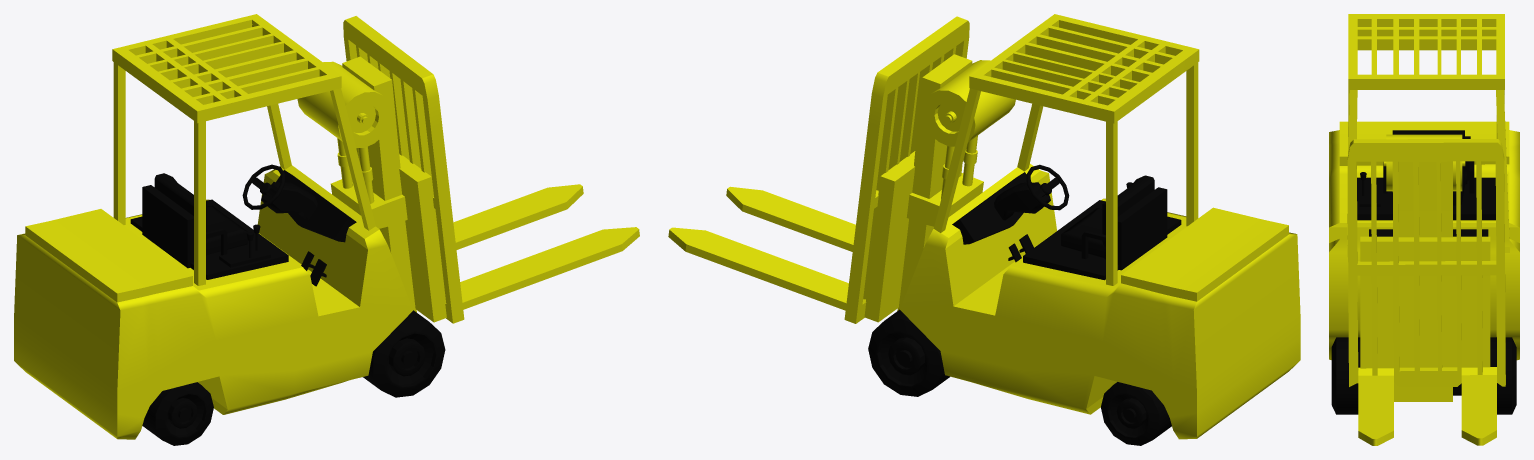
Rendered from Forklift_01_High.fbx.
3 renders of one model, left to right at view 1: azimuth 30°, elevation 25°; view 2: azimuth 150°, elevation 25°; view 3: azimuth 270°, elevation 25°, orthographic. The views are drawn at different scales.
Visible parts, largest first — view 1: Body, polySurface6, Roof, wheels, Chair, Stirring_Wheel, Controls; view 2: Body, polySurface6, Roof, wheels, Chair, Stirring_Wheel, Controls; view 3: polySurface6, Body, Roof, wheels, Controls, Chair, Stirring_Wheel.
Boxes of the visible parts, <box> form: Body: <box>14,165,413,439</box>; polySurface6: <box>297,16,639,323</box>; Roof: <box>112,14,375,285</box>; wheels: <box>142,310,445,445</box>; Chair: <box>142,173,248,268</box>; Stirring_Wheel: <box>242,164,356,242</box>; Controls: <box>130,199,288,279</box>; Body: <box>900,164,1300,439</box>; polySurface6: <box>668,16,1015,323</box>; Roof: <box>933,14,1199,285</box>; wheels: <box>868,309,1171,445</box>; Chair: <box>1061,175,1167,270</box>; Stirring_Wheel: <box>952,164,1069,244</box>; Controls: <box>1023,182,1181,280</box>; polySurface6: <box>1347,134,1505,445</box>; Body: <box>1329,121,1519,360</box>; Roof: <box>1347,14,1509,257</box>; wheels: <box>1331,337,1516,414</box>; Controls: <box>1357,172,1495,220</box>; Chair: <box>1383,130,1474,205</box>; Stirring_Wheel: <box>1369,229,1488,236</box>.
Size of the model in its own units: 29.99 by 17.32 by 9.81.
